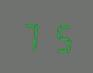five: (46, 20, 72, 53)
seven: (19, 19, 45, 52)
